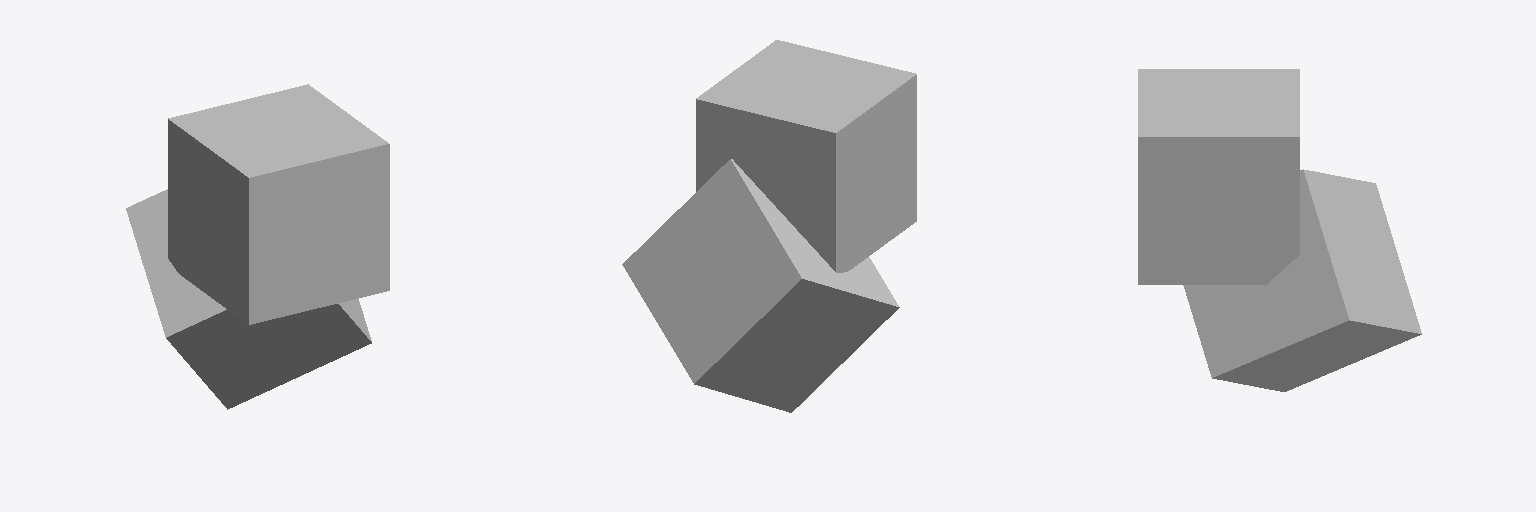
The model's file is CLOUD.obj.
The picture shows the model from 3 angles: view 1: azimuth 30°, elevation 25°; view 2: azimuth 150°, elevation 25°; view 3: azimuth 270°, elevation 25°; orthographic projection.
Visible parts, largest first — view 1: Cube.001; view 2: Cube.001; view 3: Cube.001.
Boxes of the visible parts, box(x1,y1,x2,y2) form: Cube.001: box(126, 84, 389, 409); Cube.001: box(622, 40, 916, 412); Cube.001: box(1138, 69, 1421, 391).
Size of the model in its own units: 3.16 by 4.05 by 3.5.